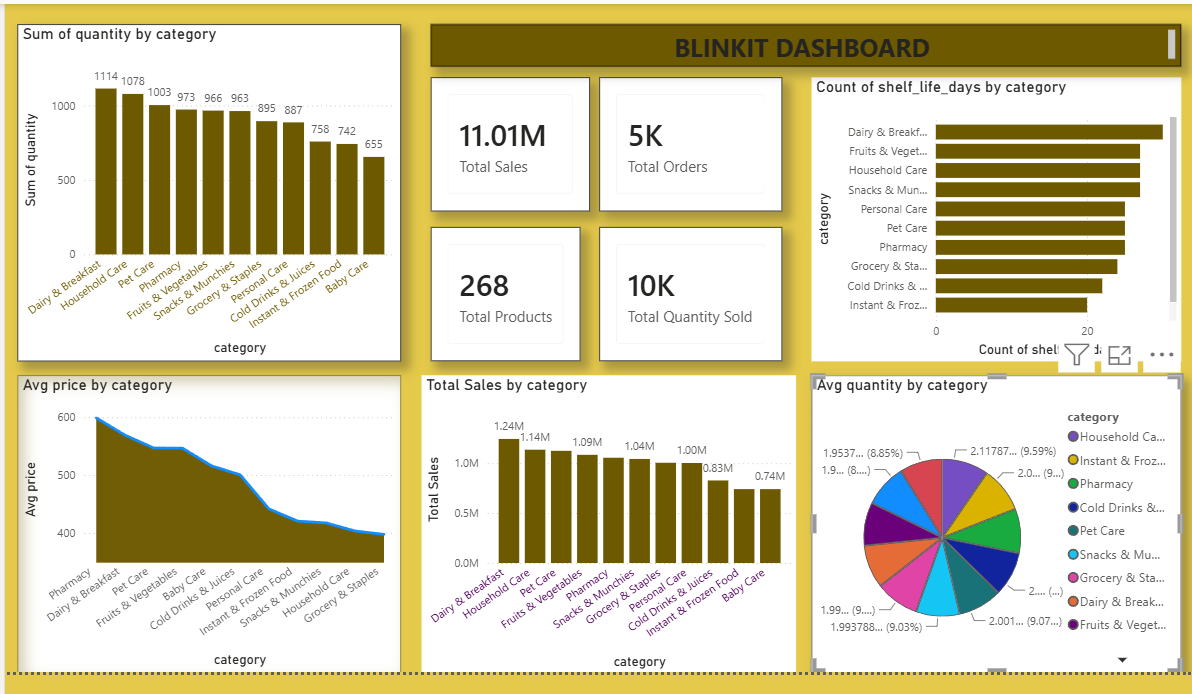

The page's visual inventory and layout, read from the dashboard file:
{"tool":"powerbi","page":{"name":"Page 1","canvas":[1280,720],"ordinal":0},"visuals":[{"type":"cardVisual","fields":{"Data":["Date Table.Total Sales"]},"box":[458.5,78.9,171.3,144.4],"z":0},{"type":"cardVisual","fields":{"Data":["Date Table.Total Orders"]},"box":[639.8,78.9,196.5,144.4],"z":1000},{"type":"cardVisual","fields":{"Data":["Date Table.Total Products"]},"box":[458.5,240.1,161.2,144.4],"z":2000},{"type":"cardVisual","fields":{"Data":["Date Table.Total Quantity Sold"]},"box":[639.8,240.1,196.5,144.4],"z":3000},{"type":"columnChart","fields":{"Category":["blinkit_products.category"],"Y":["Date Table.Total Sales"]},"box":[448.4,399.7,403,320.7],"z":4000},{"type":"barChart","fields":{"Category":["blinkit_products.category"],"Y":["CountNonNull(blinkit_products.shelf_life_days)"]},"box":[868.2,78.9,398,305.6],"z":5000},{"type":"columnChart","fields":{"Y":["Sum(blinkit_order_items.quantity)"],"Category":["blinkit_products.category"]},"box":[13.4,21.8,413.1,362.7],"z":6000},{"type":"areaChart","fields":{"Category":["blinkit_products.category"],"Y":["Date Table.Avg price"]},"box":[13.4,399.7,413.1,320.7],"z":7000},{"type":"pieChart","fields":{"Category":["blinkit_products.category"],"Y":["Date Table.Avg quantity"]},"box":[868.2,399.7,398,320.7],"z":8000},{"type":"textbox","box":[458.5,21.8,807.7,45.3],"z":9000}]}

Visuals, with their boxes in screenshot pixels (x1, y1, x2, y2):
cardVisual - Date Table.Total Sales: region(430, 79, 588, 211)
cardVisual - Date Table.Total Orders: region(597, 79, 777, 211)
cardVisual - Date Table.Total Products: region(430, 227, 578, 359)
cardVisual - Date Table.Total Quantity Sold: region(597, 227, 777, 359)
columnChart - blinkit_products.category x Date Table.Total Sales: region(421, 373, 791, 668)
barChart - blinkit_products.category x CountNonNull(blinkit_products.shelf_life_days): region(807, 79, 1172, 359)
columnChart - Sum(blinkit_order_items.quantity) x blinkit_products.category: region(22, 26, 401, 359)
areaChart - blinkit_products.category x Date Table.Avg price: region(22, 373, 401, 668)
pieChart - blinkit_products.category x Date Table.Avg quantity: region(807, 373, 1172, 668)
textbox: region(430, 26, 1172, 68)
